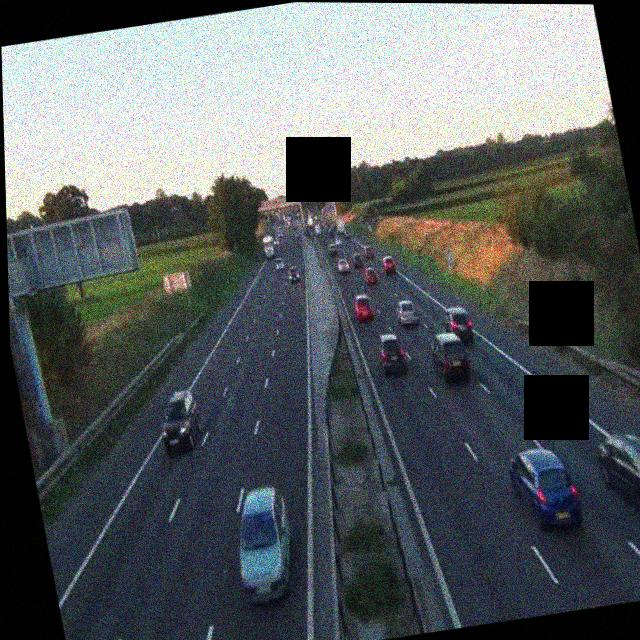car: (225, 483, 303, 605), (506, 443, 585, 535), (595, 425, 640, 531), (153, 388, 207, 456), (427, 329, 472, 384), (375, 331, 408, 375), (442, 306, 478, 346), (394, 298, 420, 328), (352, 293, 374, 323), (381, 255, 397, 275), (364, 264, 379, 283), (337, 256, 352, 275), (287, 264, 301, 282), (350, 252, 363, 269), (363, 245, 375, 260), (274, 256, 285, 271), (329, 241, 339, 256)
truck: (261, 234, 278, 260), (333, 216, 345, 235), (311, 218, 322, 234)
